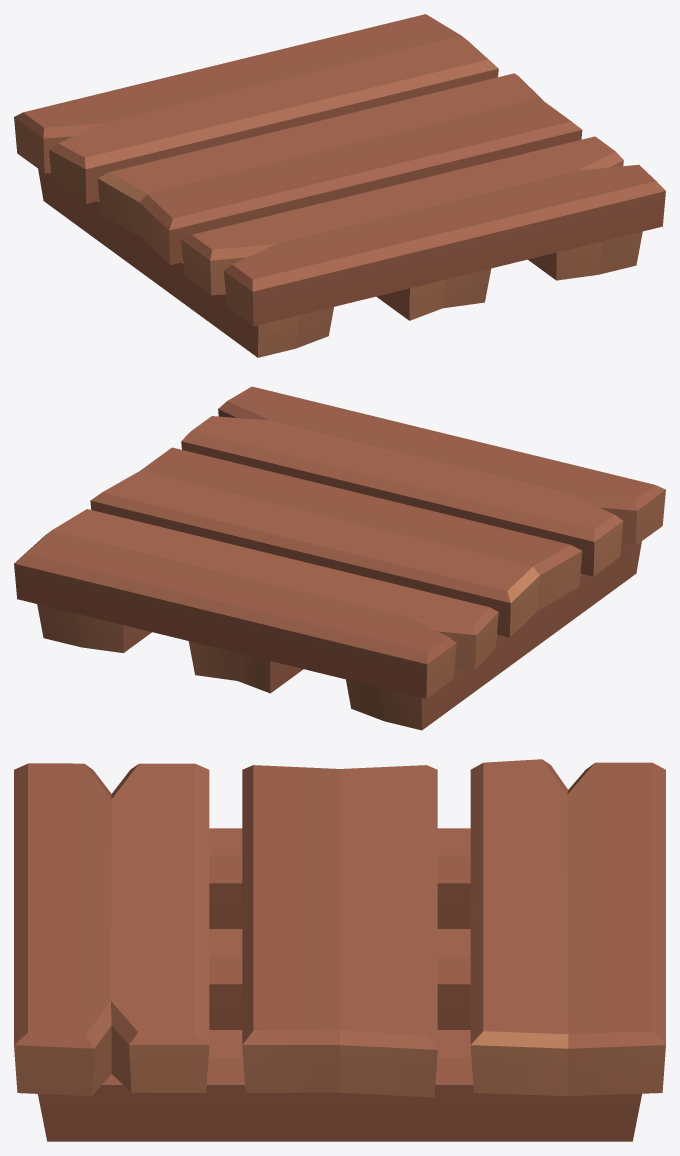
File: lastpall.glb
The picture shows the model from 3 angles, top to bottom: view 1: azimuth 30°, elevation 25°; view 2: azimuth 150°, elevation 25°; view 3: azimuth 270°, elevation 25°; orthographic projection. The views are drawn at different scales.
Parts seen in each view (by area): view 1: Pallet_Wood; view 2: Pallet_Wood; view 3: Pallet_Wood.
Part boxes in pixels (x1,y1,x2,y2): Pallet_Wood: [14, 14, 665, 357]; Pallet_Wood: [14, 386, 665, 730]; Pallet_Wood: [14, 759, 665, 1141].
Size of the model in its own units: 1.55 by 0.2999 by 1.5.
1 material, 1 textured.
